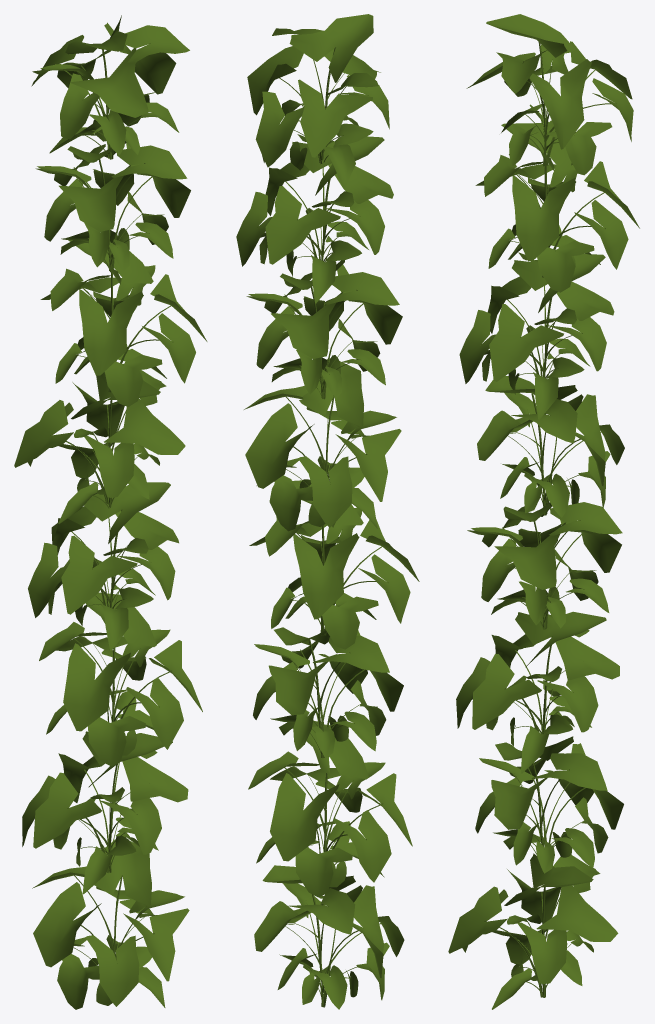
File: kelp.obj
The picture shows the model from 3 angles, left to right: view 1: azimuth 30°, elevation 25°; view 2: azimuth 150°, elevation 25°; view 3: azimuth 270°, elevation 25°; orthographic projection.
Parts seen in each view (by area): view 1: kelp1, kelp3, kelp4, kelp6, kelp8, kelp2, kelp5, kelp7; view 2: kelp5, kelp2, kelp8, kelp7, kelp6, kelp4, kelp3, kelp1; view 3: kelp6, kelp3, kelp1, kelp7, kelp8, kelp4, kelp2, kelp5.
Boxes of the visible parts, <box> form: kelp1: <box>32,839,189,1009</box>; kelp3: <box>39,592,202,766</box>; kelp4: <box>28,482,178,651</box>; kelp6: <box>40,240,207,406</box>; kelp8: <box>31,15,189,159</box>; kelp2: <box>22,731,188,894</box>; kelp5: <box>14,370,185,523</box>; kelp7: <box>35,141,190,272</box>; kelp5: <box>244,358,401,531</box>; kelp2: <box>248,724,412,897</box>; kelp8: <box>247,14,389,189</box>; kelp7: <box>236,134,393,303</box>; kelp6: <box>246,260,402,399</box>; kelp4: <box>249,480,419,649</box>; kelp3: <box>253,627,403,758</box>; kelp1: <box>254,865,404,1009</box>; kelp6: <box>459,252,614,419</box>; kelp3: <box>456,611,619,773</box>; kelp1: <box>448,853,618,1009</box>; kelp7: <box>475,123,639,292</box>; kelp8: <box>466,14,633,175</box>; kelp4: <box>467,502,622,629</box>; kelp2: <box>475,736,623,873</box>; kelp5: <box>477,376,624,517</box>.
Bounding box in the file's own units: 0.2557 × 1.53 × 0.2751.
